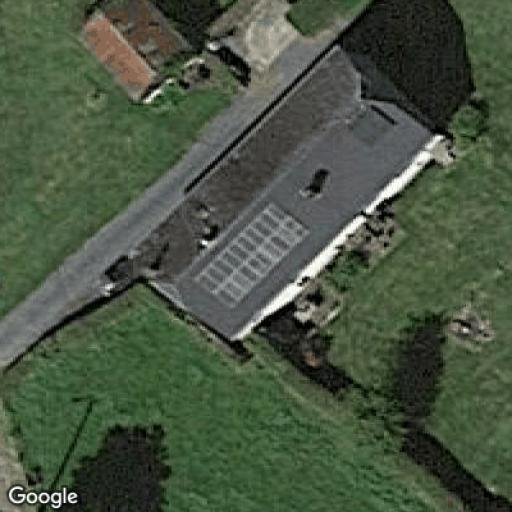solar-panel: (195, 200, 307, 310)
